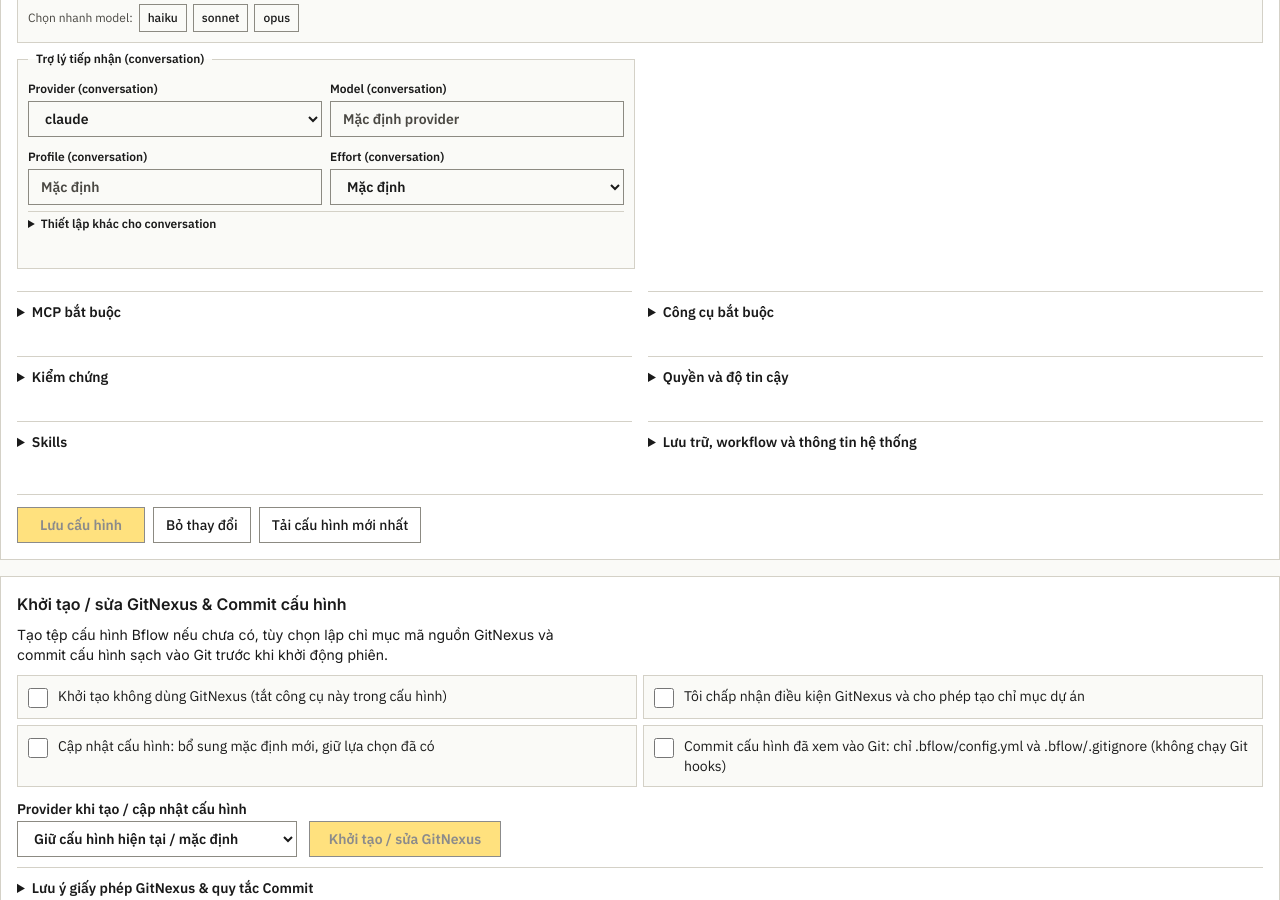
Scenario: discard clears invalid JSON draft and its browser validity
The width and height of the screenshot is (1280, 900).
(page scrolled)
Expected: the field labelled "Model (conversation)" is shown, [330,101,624,137]
Click the heading "Skills": click(50, 442) [32,433,67,451]
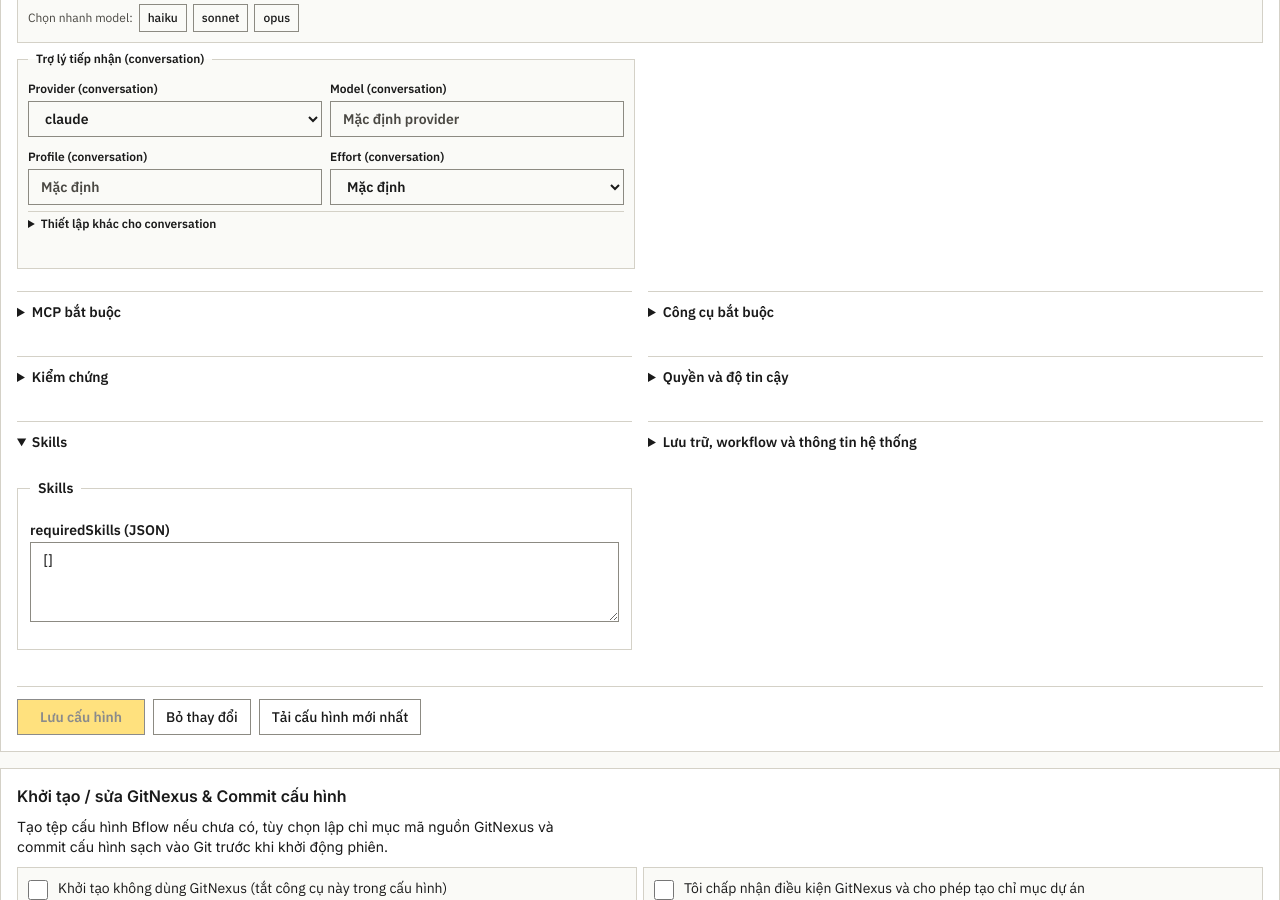
Replace the text in the text box labelled "requiredSkills (JSON)" with "broken": (324, 582) [30,542,619,622]
(page scrolled)
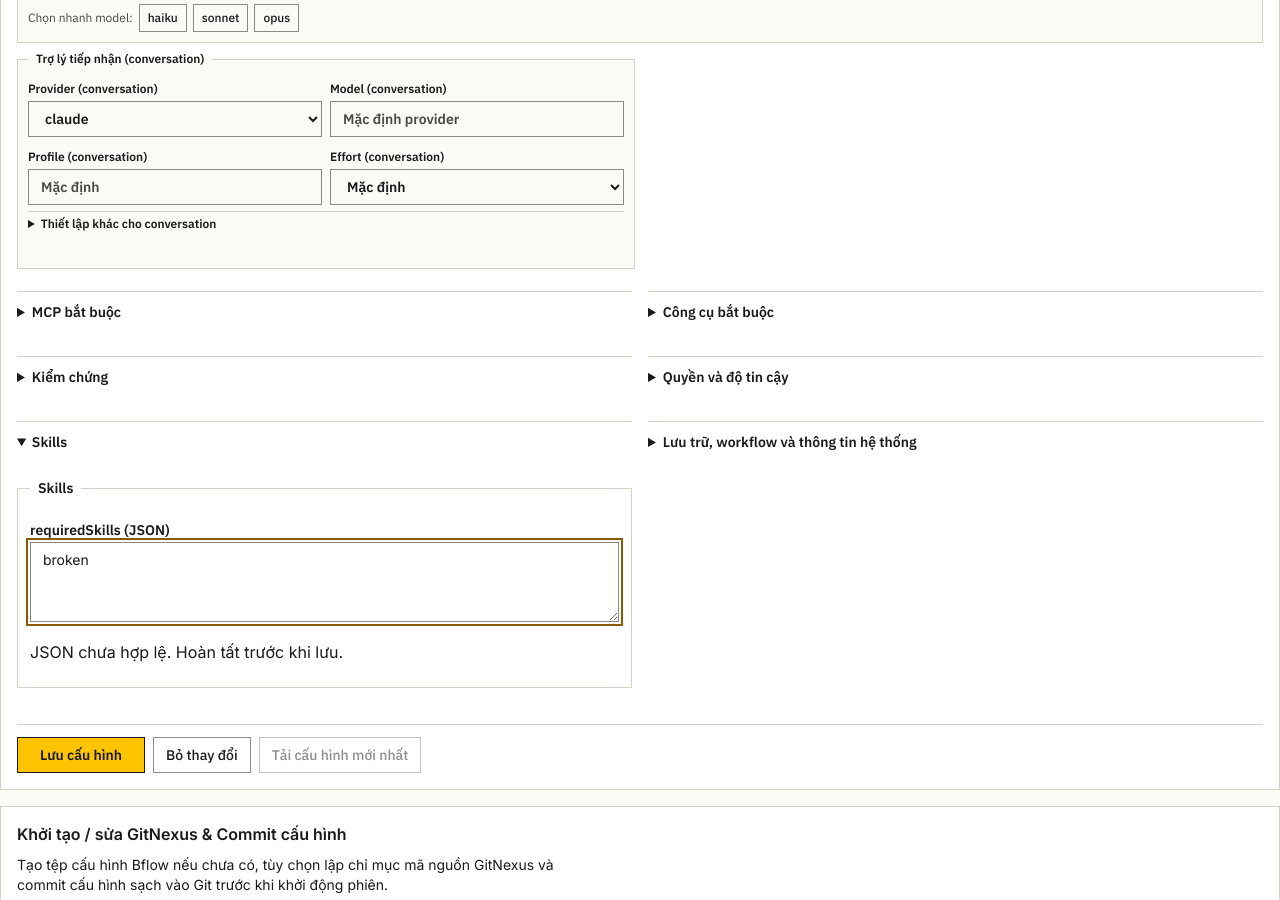
Click the button "Bỏ thay đổi": click(202, 755) [153,737,251,773]
(page scrolled)
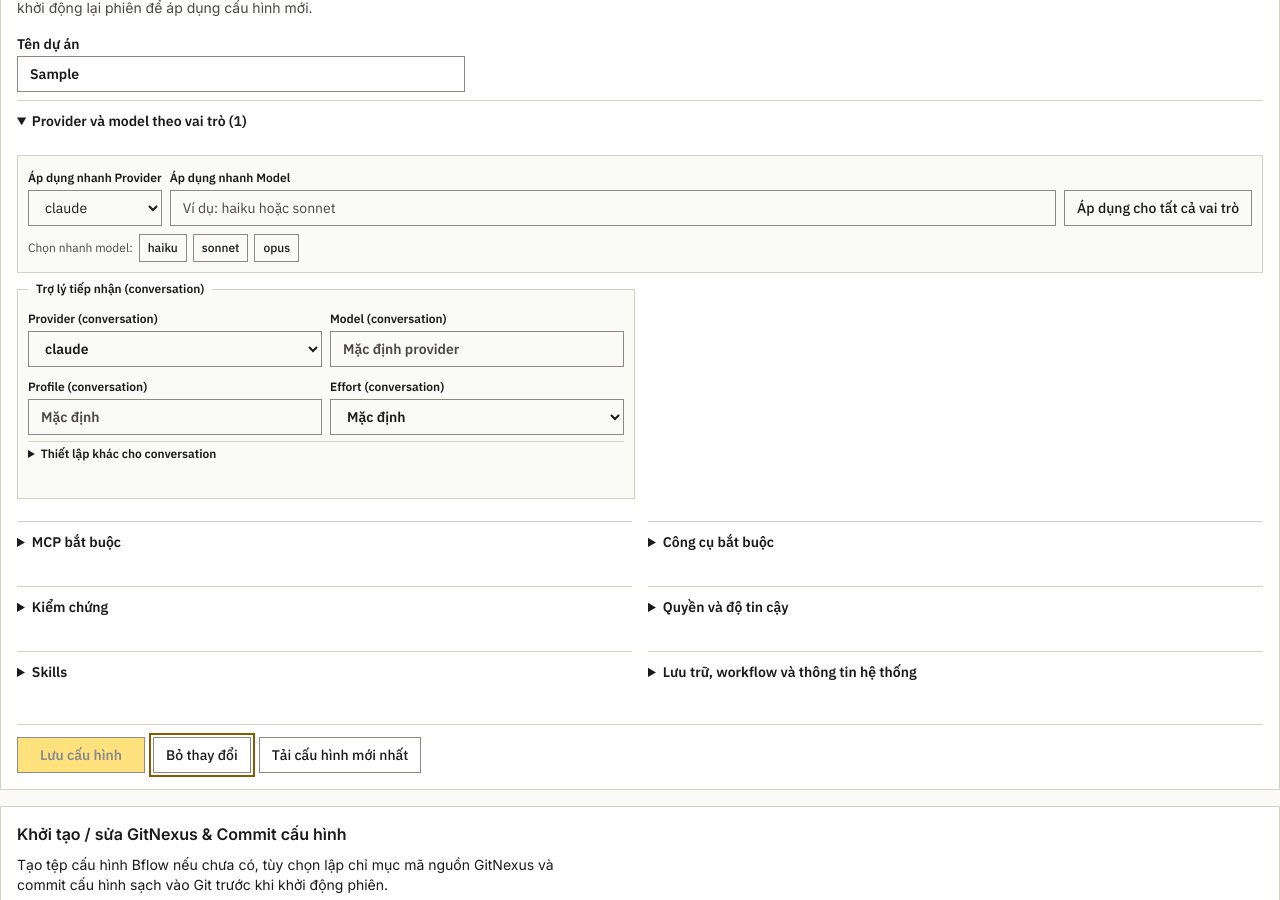
Click the heading "Skills": click(50, 672) [32,663,67,681]
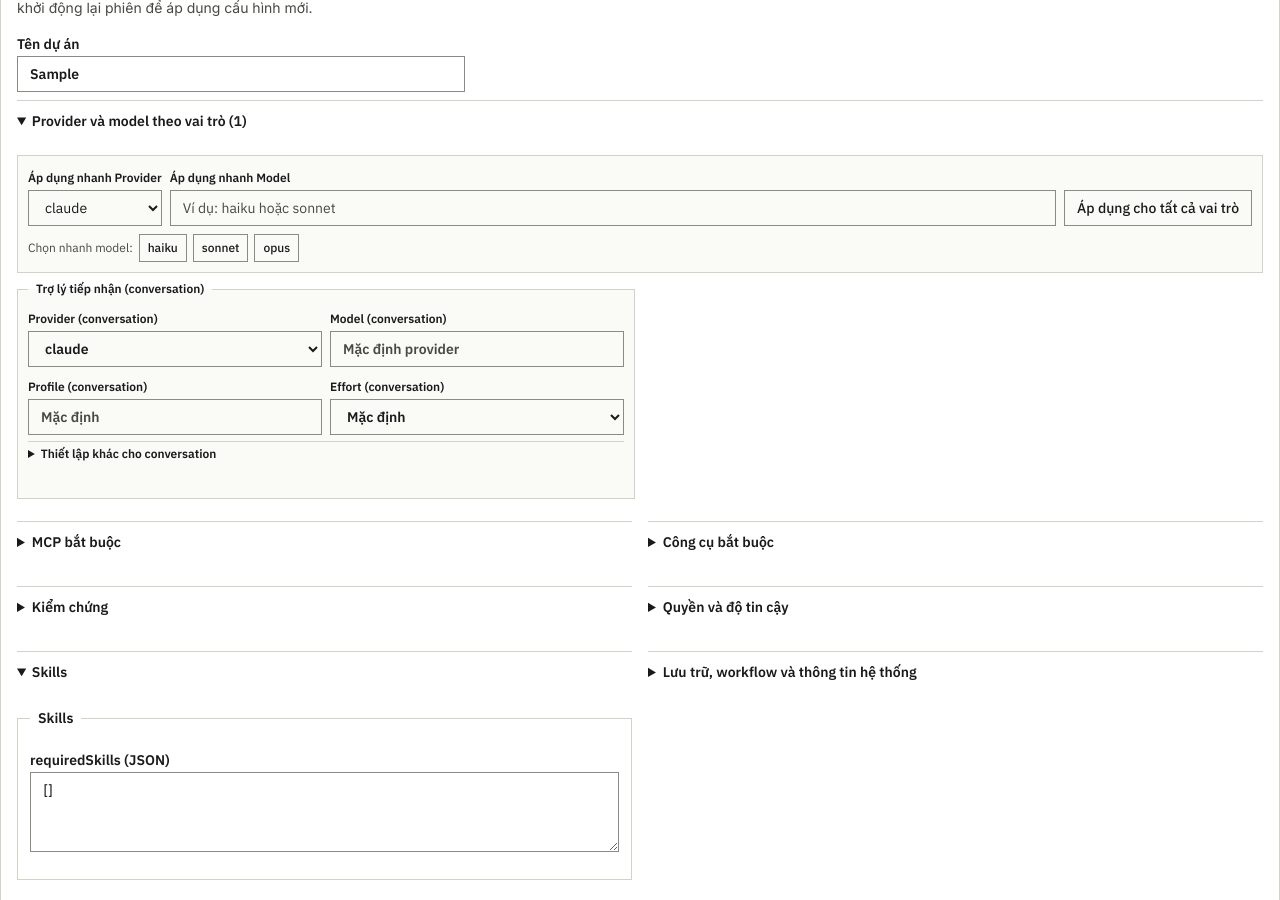
Expected: the text "JSON chưa hợp lệ. Hoàn tất trước khi lưu." is not shown
Result: the text box labelled "requiredSkills (JSON)" holds "[]" at [30,772,619,852]
